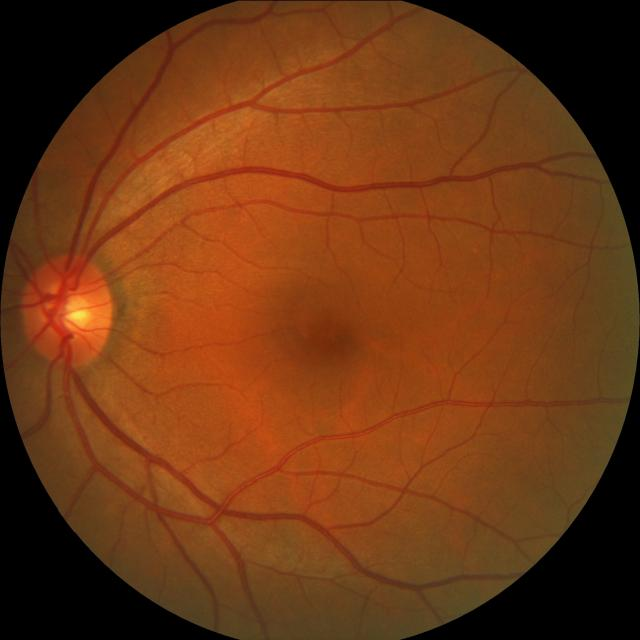OC: (38, 280, 94, 340)
OD: (21, 253, 115, 365)
